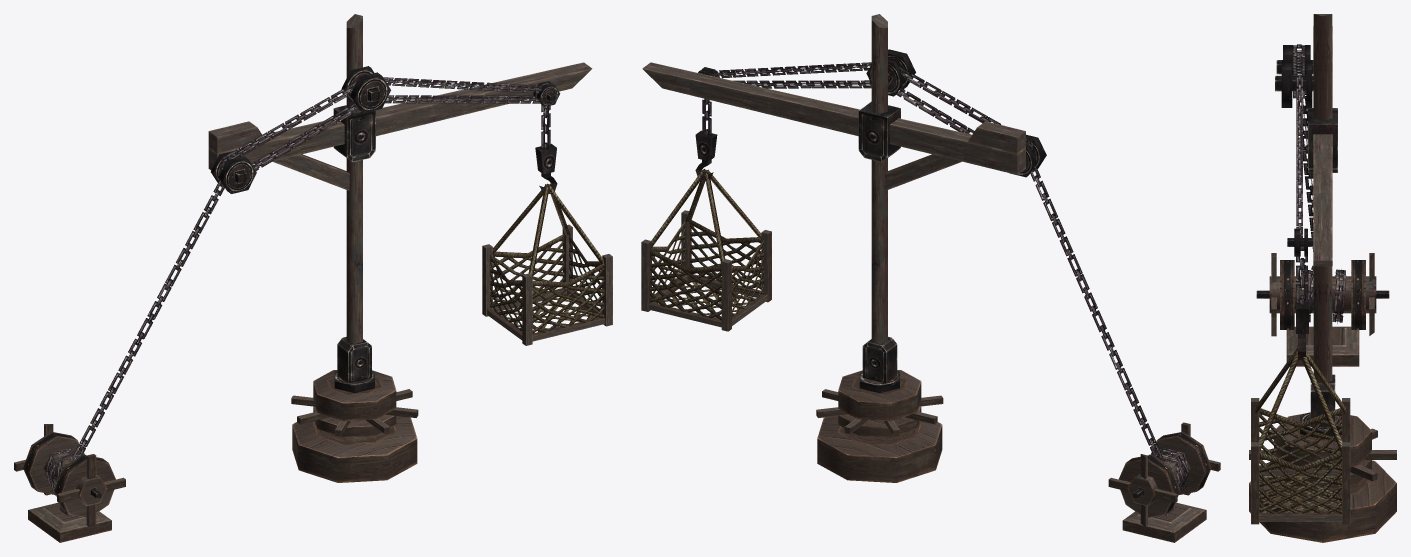
File: diaochejia_jx_60.FBX
3 views of the same model, side by side, from view 1: azimuth 30°, elevation 25°; view 2: azimuth 150°, elevation 25°; view 3: azimuth 270°, elevation 25° (orthographic). The views are drawn at different scales.
Parts seen in each view (by area): view 1: diaochejia_jx_60_ncl1_2, diaochejia_jx_60_lanzi, diaochejia_jx_60_jiaopan, diaochejia_jx_60_tielian; view 2: diaochejia_jx_60_ncl1_2, diaochejia_jx_60_lanzi, diaochejia_jx_60_jiaopan, diaochejia_jx_60_tielian; view 3: diaochejia_jx_60_ncl1_2, diaochejia_jx_60_lanzi, diaochejia_jx_60_jiaopan, diaochejia_jx_60_tielian.
Part boxes in pixels (left/top/right/bottom): diaochejia_jx_60_ncl1_2: left=208, top=14, right=592, bottom=482; diaochejia_jx_60_lanzi: left=482, top=183, right=612, bottom=345; diaochejia_jx_60_jiaopan: left=14, top=424, right=125, bottom=542; diaochejia_jx_60_tielian: left=69, top=180, right=224, bottom=461; diaochejia_jx_60_ncl1_2: left=642, top=14, right=1046, bottom=482; diaochejia_jx_60_lanzi: left=641, top=169, right=771, bottom=331; diaochejia_jx_60_jiaopan: left=1108, top=422, right=1220, bottom=542; diaochejia_jx_60_tielian: left=1030, top=165, right=1162, bottom=459; diaochejia_jx_60_ncl1_2: left=1249, top=14, right=1396, bottom=542; diaochejia_jx_60_lanzi: left=1251, top=346, right=1350, bottom=524; diaochejia_jx_60_jiaopan: left=1256, top=253, right=1389, bottom=366; diaochejia_jx_60_tielian: left=1296, top=74, right=1313, bottom=251.
Size of what is drawn, in the model's own units: 1474 by 1121 by 300.
